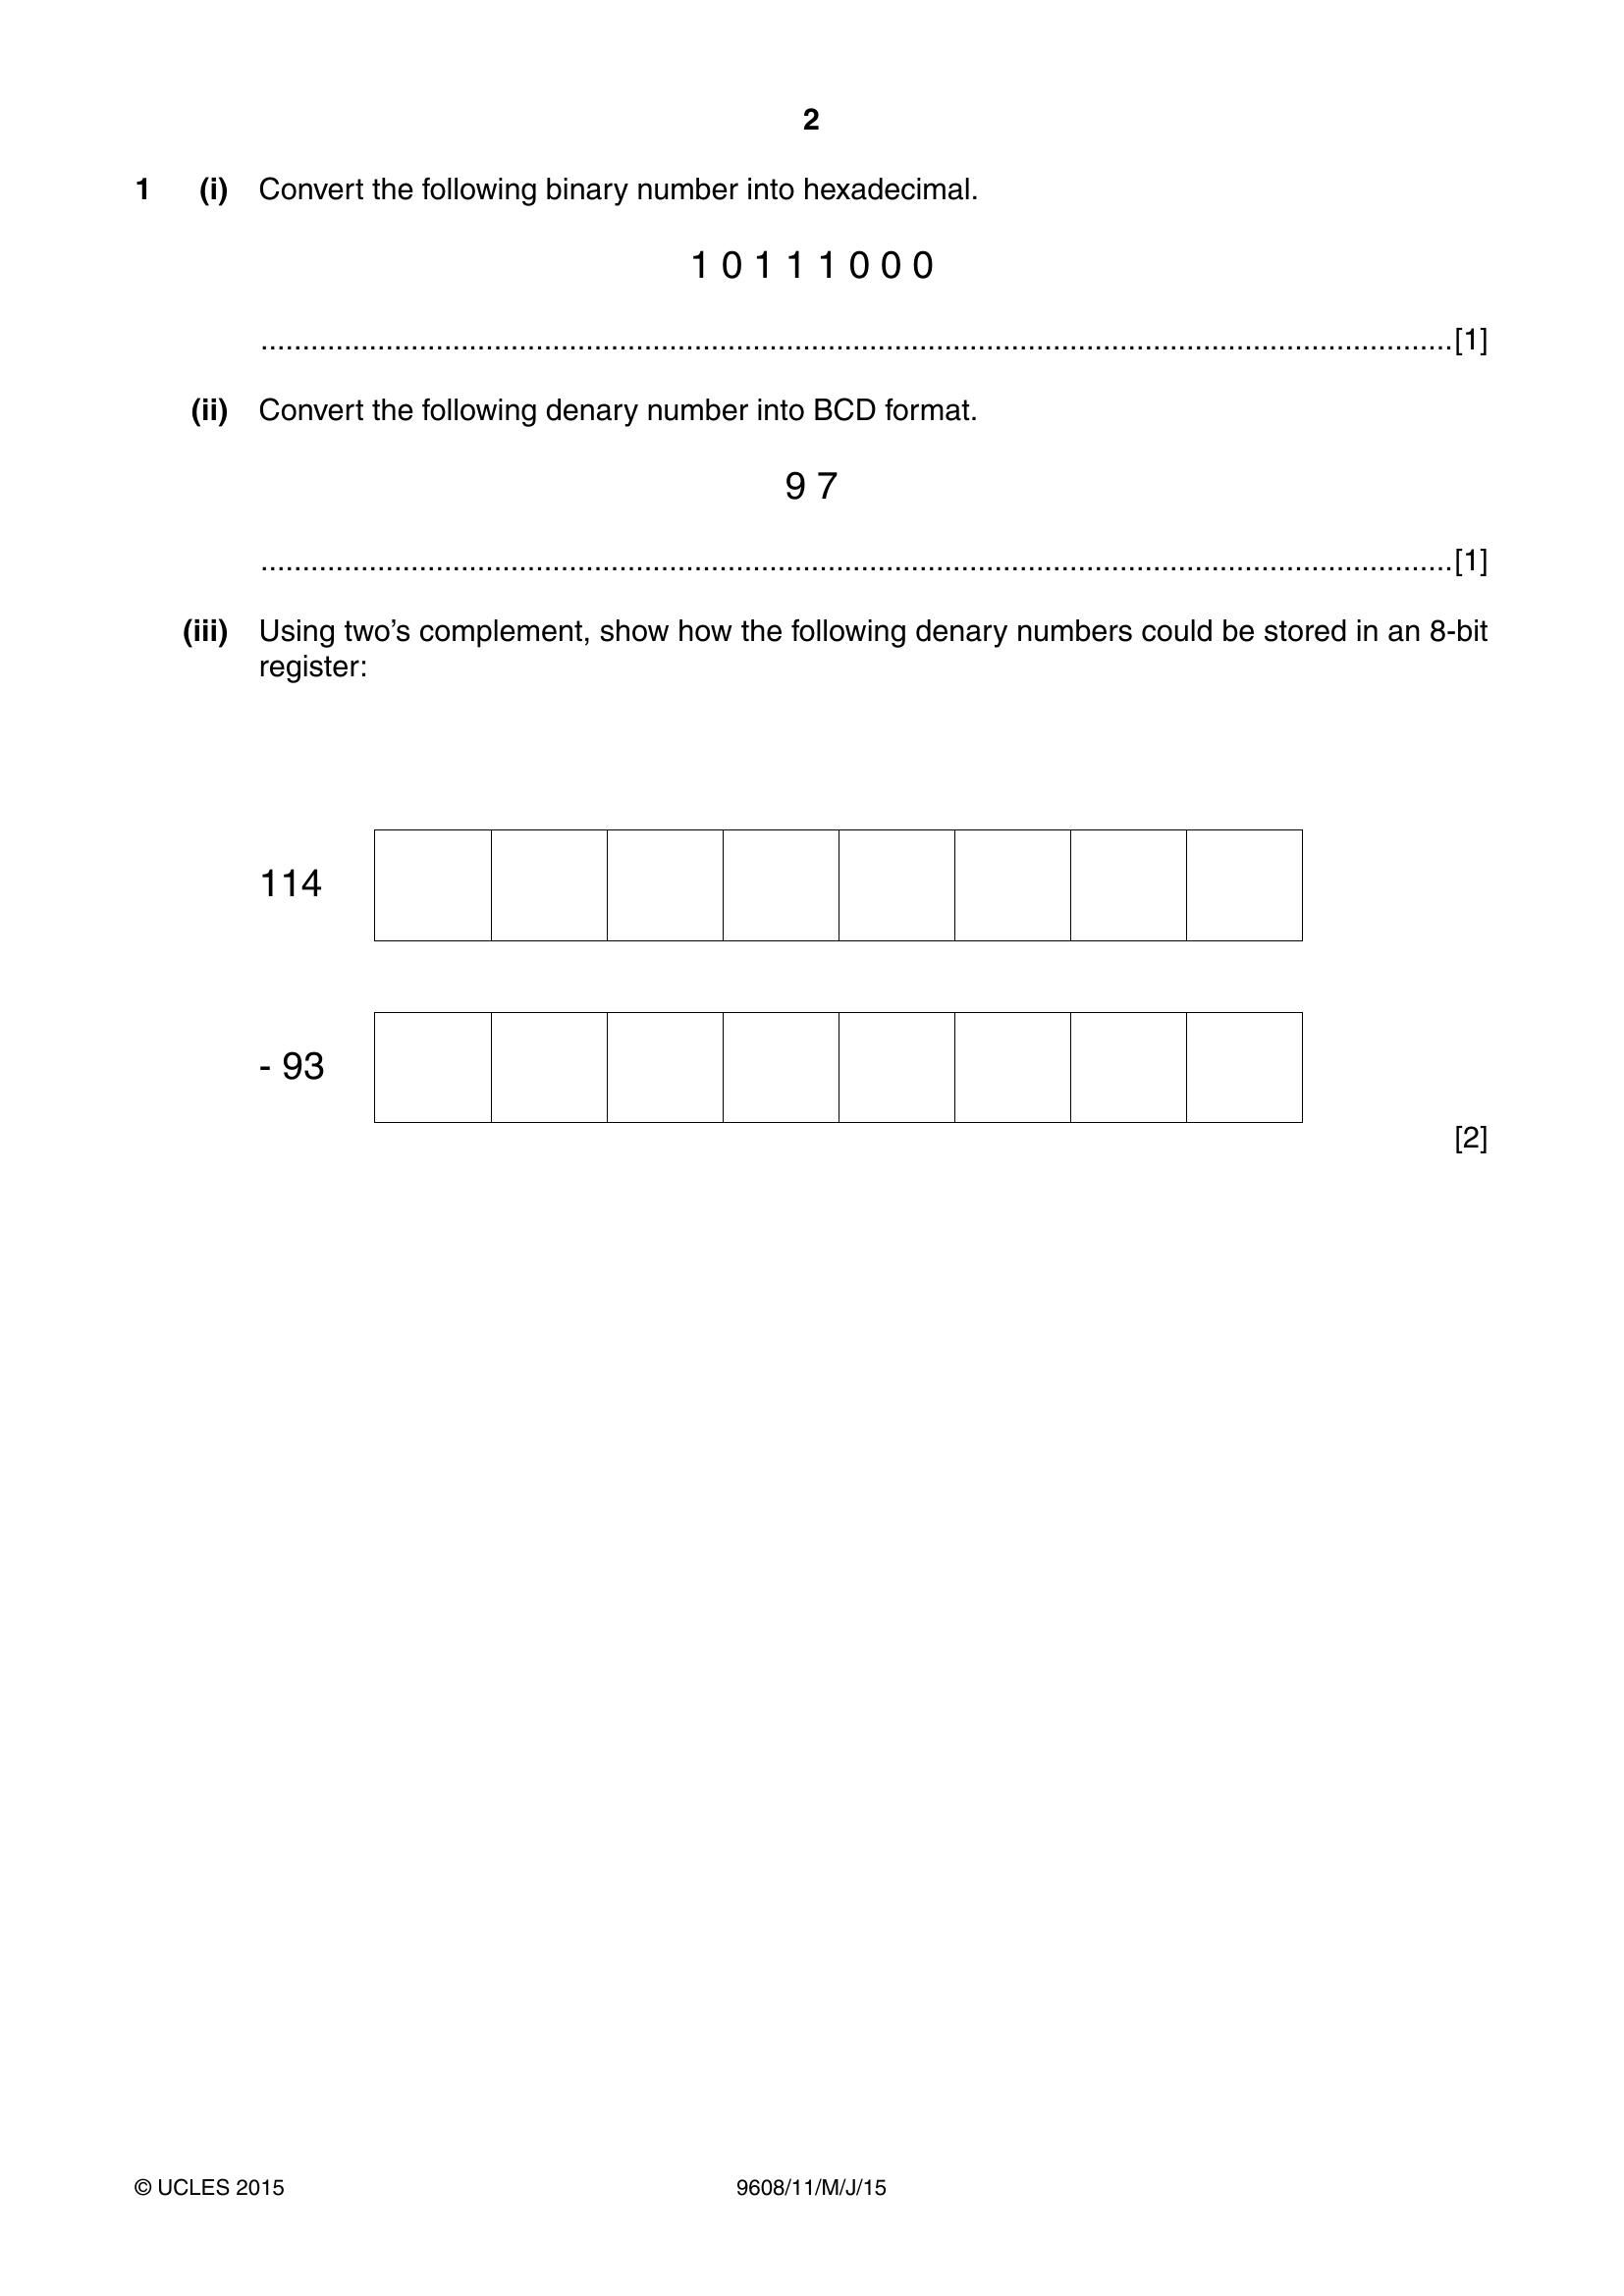question: (4, 155, 1624, 1238)
